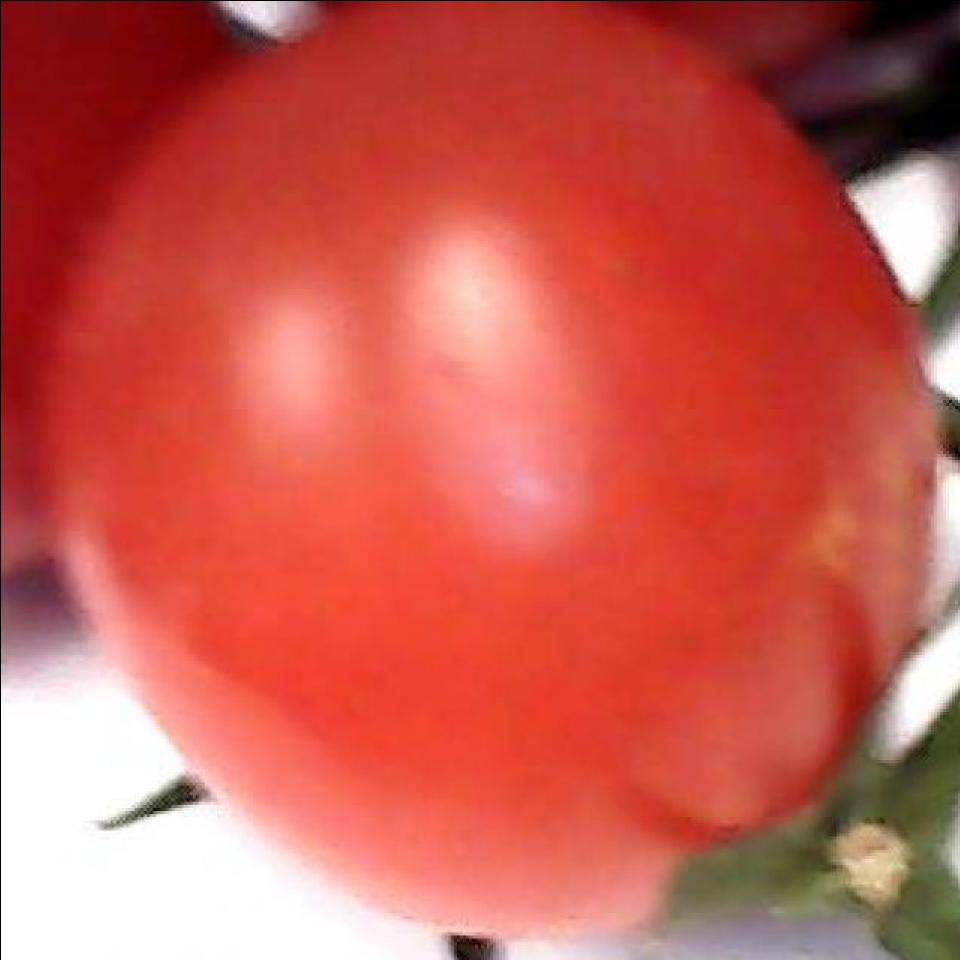Healthy: (92, 13, 931, 946)
